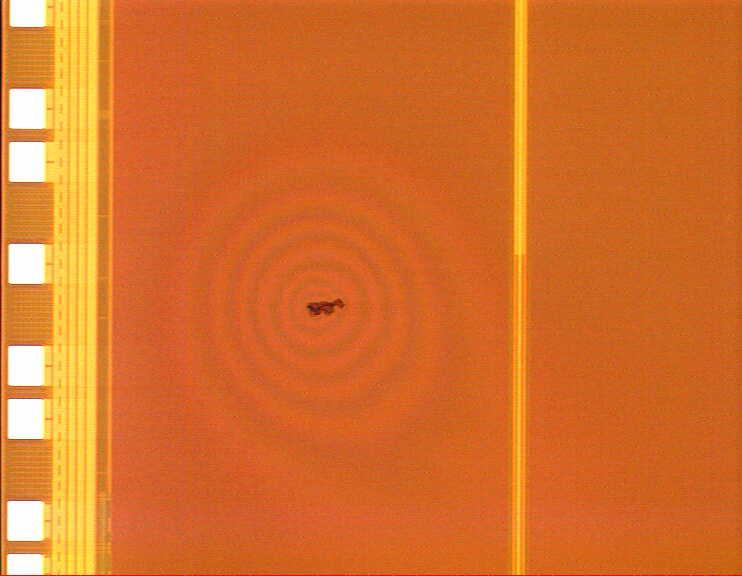PIQ PARTICLE: (298, 293, 354, 322)
